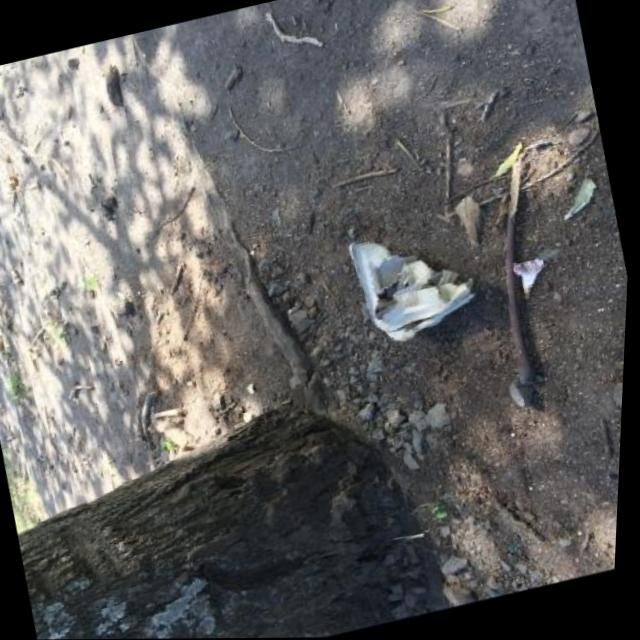cardboard: (342, 218, 487, 352)
